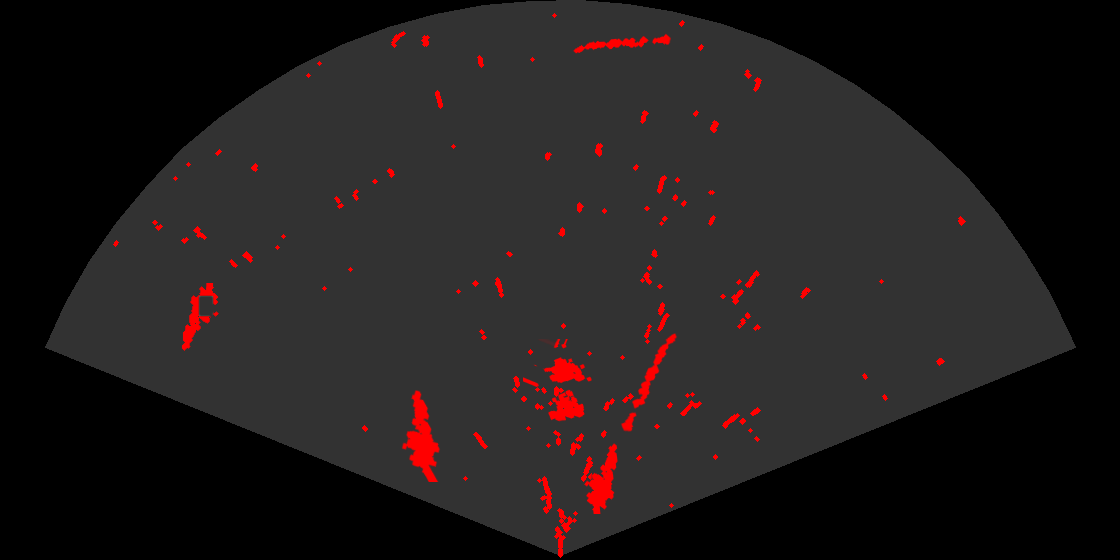cage: (523, 339, 593, 423)
chain: (619, 332, 679, 433), (572, 32, 671, 55)
frogman: (400, 389, 442, 482), (180, 283, 220, 351), (583, 442, 619, 514)
